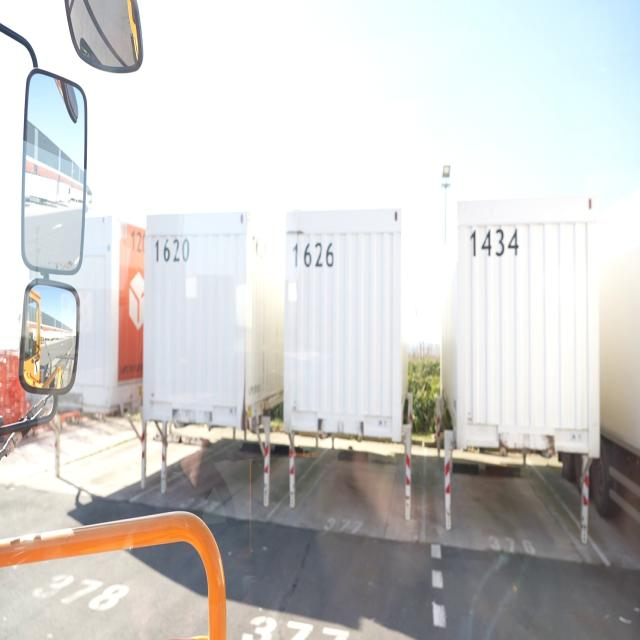Code: (469, 222, 525, 263), (290, 238, 336, 272), (152, 236, 192, 265)
